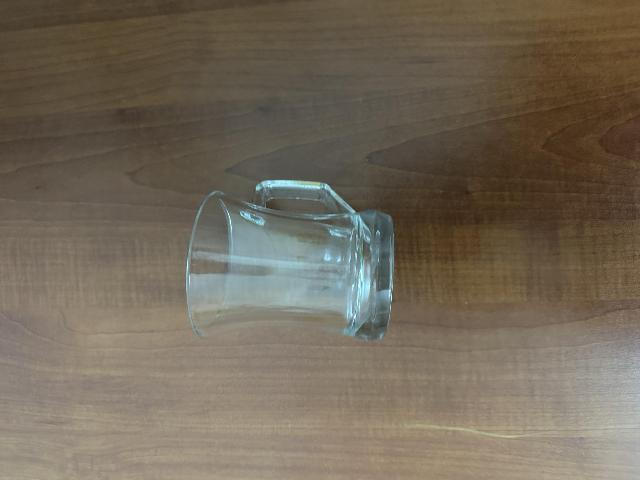Cam: (173, 171, 403, 340)
